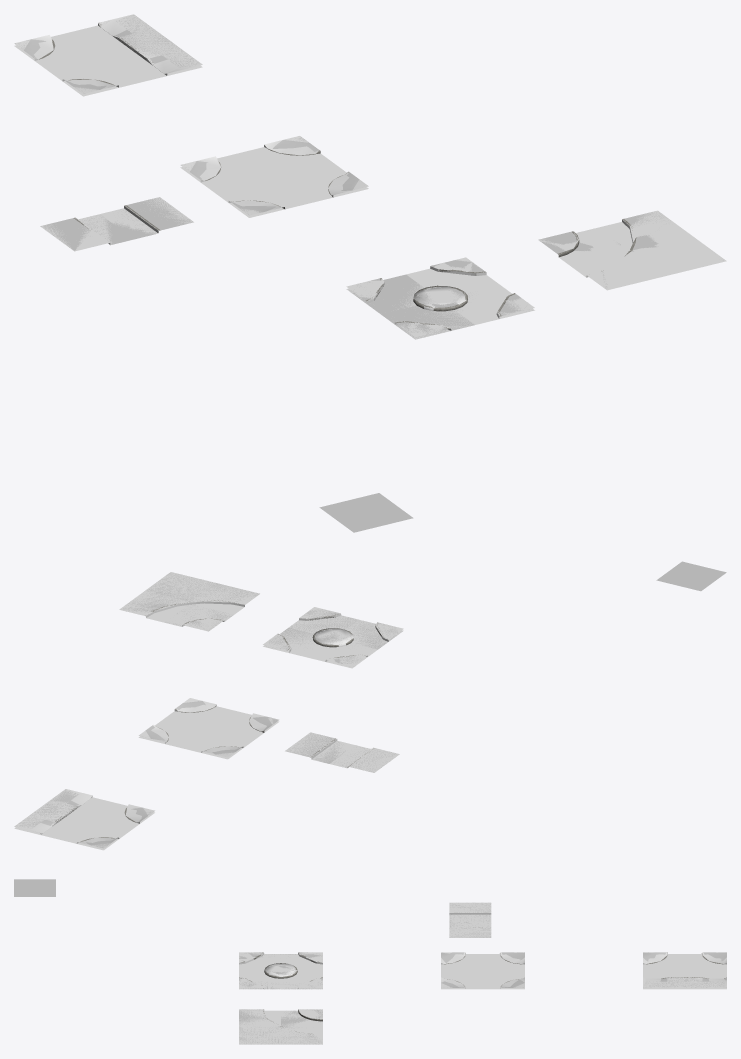
Rendered from Roads.fbx.
3 views of the same model, one above another, from view 1: azimuth 30°, elevation 25°; view 2: azimuth 150°, elevation 25°; view 3: azimuth 270°, elevation 25° (orthographic). The views are drawn at different scales.
Visible parts, largest first — view 1: Crossroads_1_lines_2_walk_mc, Crossroads_1_lines_walk_mc, Road_1_line_turn_mc, Crossroads_1_lines_circ_mc, Crossroads_1_lines_circ, Crossroads_1_lines_walk, Crossroads_1_lines_2_walk, Road_1_line, Road_1_line_mc, Pavement, Road_1_line_turn; view 2: Road_1_line_turn_mc, Crossroads_1_lines_circ_mc, Crossroads_1_lines_2_walk_mc, Crossroads_1_lines_walk, Crossroads_1_lines_walk_mc, Road_1_line_turn, Crossroads_1_lines_circ, Road_1_line_mc, Crossroads_1_lines_2_walk, Road_1_line, Pavement; view 3: Crossroads_1_lines_circ_mc, Road_1_line_turn_mc, Crossroads_1_lines_walk, Crossroads_1_lines_2_walk, Crossroads_1_lines_2_walk_mc, Road_1_line_mc, Road_1_line_turn, Crossroads_1_lines_walk_mc, Pavement, Crossroads_1_lines_circ, Road_1_line.
Boxes of the visible parts, x1,y1,x2,y2 form: Crossroads_1_lines_2_walk_mc: (14,14,202,96); Crossroads_1_lines_walk_mc: (180,136,368,217); Road_1_line_turn_mc: (538,210,726,290); Crossroads_1_lines_circ_mc: (346,257,534,339); Crossroads_1_lines_circ: (348,260,532,339); Crossroads_1_lines_walk: (181,136,368,217); Crossroads_1_lines_2_walk: (15,15,201,95); Road_1_line: (41,197,193,251); Road_1_line_mc: (40,197,193,251); Pavement: (319,493,413,532); Road_1_line_turn: (539,211,723,288); Road_1_line_turn_mc: (119,572,259,631); Crossroads_1_lines_circ_mc: (263,607,403,668); Crossroads_1_lines_2_walk_mc: (14,789,154,850); Crossroads_1_lines_walk: (140,701,278,758); Crossroads_1_lines_walk_mc: (138,698,279,759); Road_1_line_turn: (121,572,259,630); Crossroads_1_lines_circ: (265,609,402,666); Road_1_line_mc: (285,732,399,772); Crossroads_1_lines_2_walk: (15,789,154,849); Road_1_line: (285,732,396,772); Pavement: (656,561,726,591); Crossroads_1_lines_circ_mc: (239,952,322,989); Road_1_line_turn_mc: (239,1009,322,1044); Crossroads_1_lines_walk: (441,952,524,989); Crossroads_1_lines_2_walk: (643,952,726,989); Crossroads_1_lines_2_walk_mc: (643,952,726,989); Road_1_line_mc: (449,902,491,937); Road_1_line_turn: (239,1009,322,1044); Crossroads_1_lines_walk_mc: (441,952,524,989); Pavement: (14,879,55,896); Crossroads_1_lines_circ: (239,952,322,989); Road_1_line: (449,902,491,937).
Size of the model in its own units: 2328 by 19.38 by 4237.
